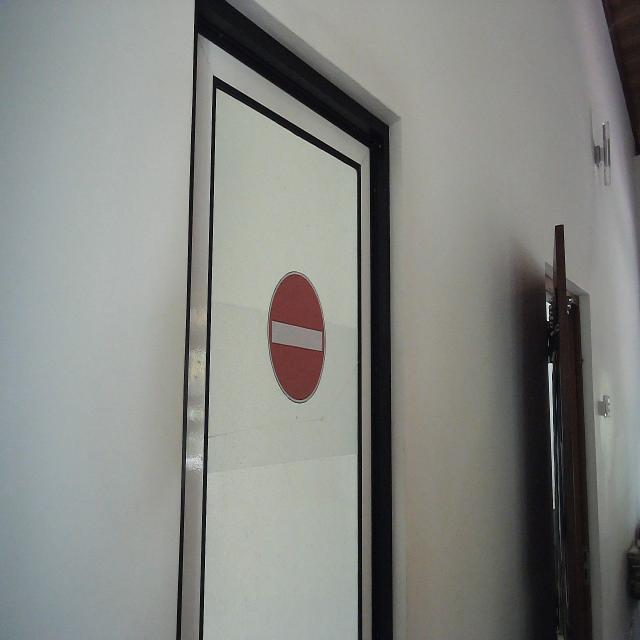no_entry: (266, 268, 328, 406)
